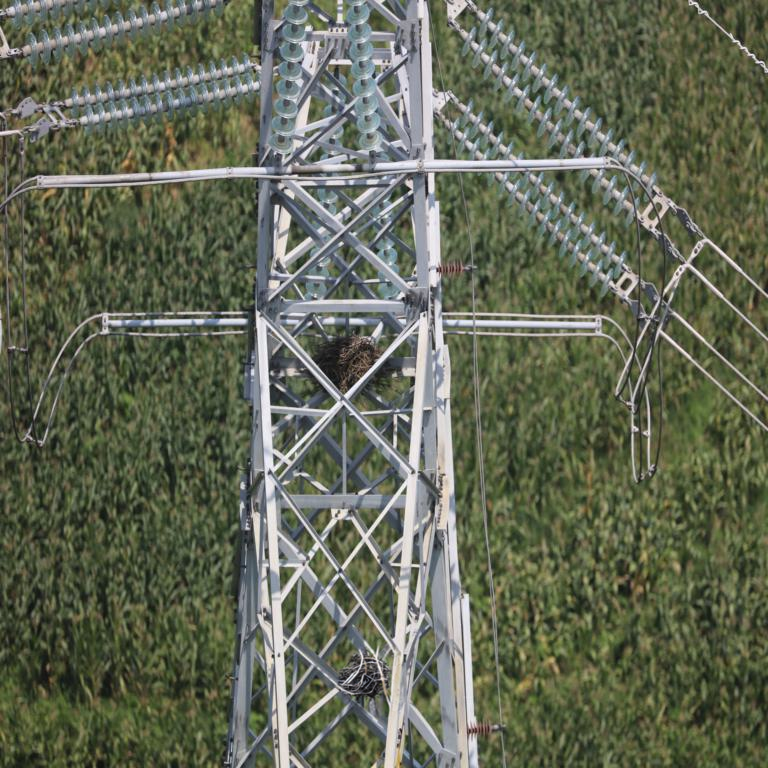nest: (310, 339, 381, 396), (337, 650, 390, 696)
